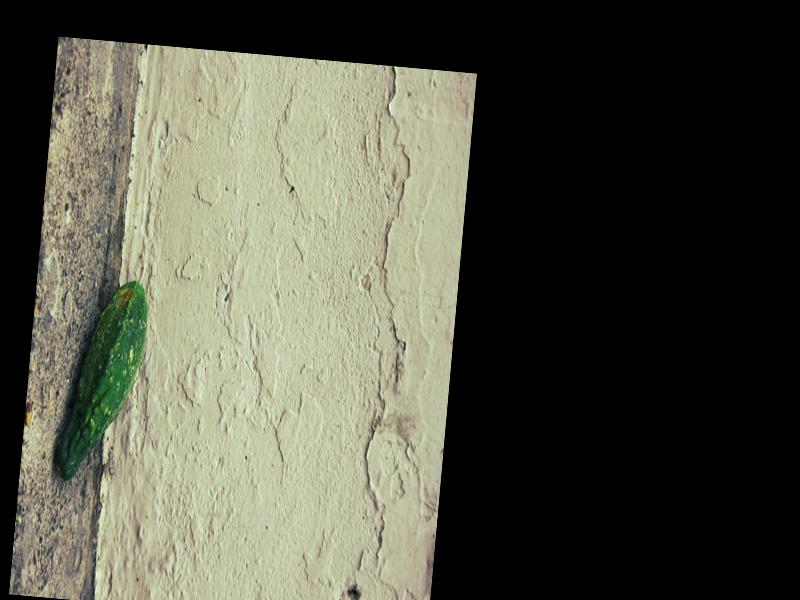Cucumber: (54, 275, 151, 483)
